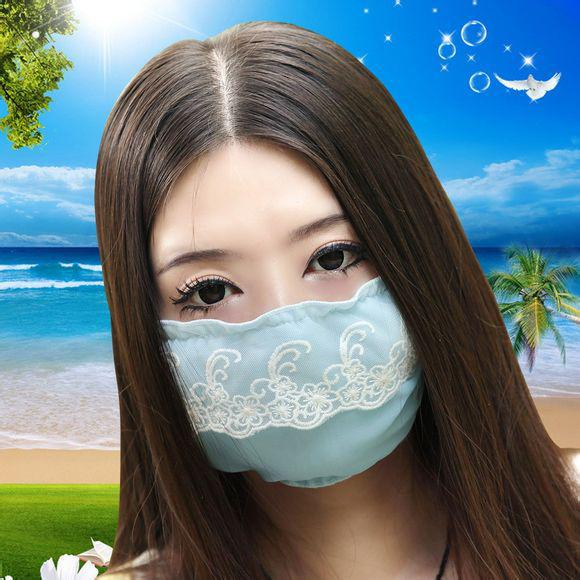OK: (142, 207, 423, 488)
